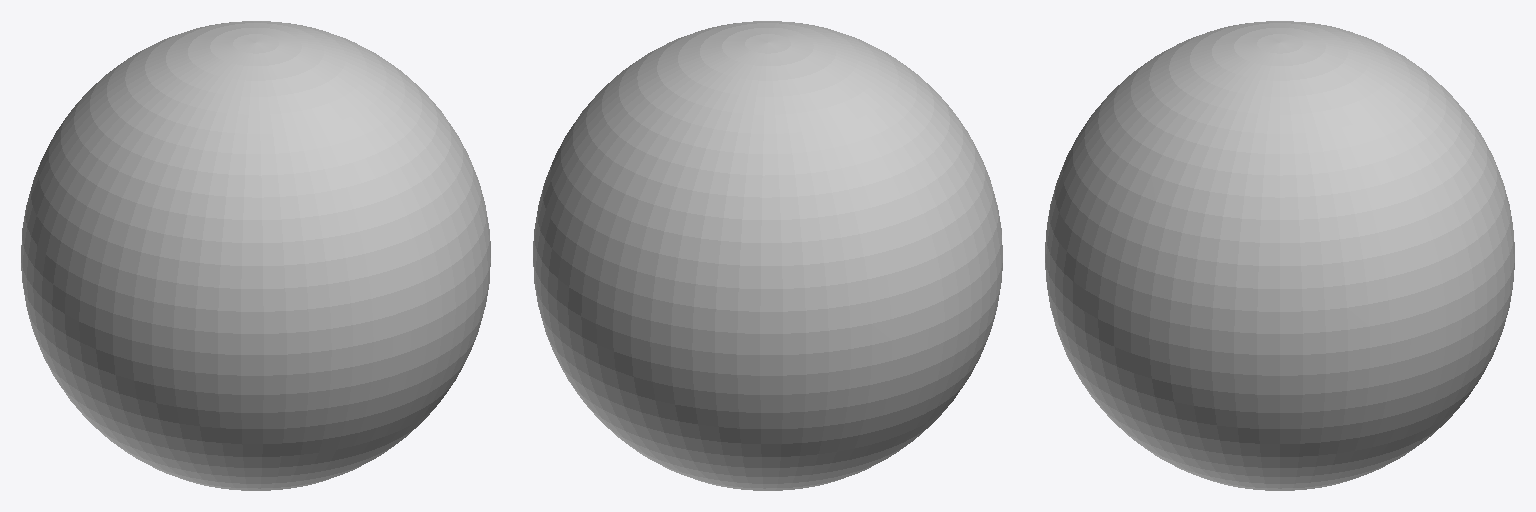
Rendered from FFSphereUVres01.obj.
3 views of the same model, side by side, from view 1: azimuth 30°, elevation 25°; view 2: azimuth 150°, elevation 25°; view 3: azimuth 270°, elevation 25° (orthographic).
Parts seen in each view (by area): view 1: Sphere; view 2: Sphere; view 3: Sphere.
Boxes of the visible parts, box(x1,y1,x2,y2) form: Sphere: box(21, 21, 490, 490); Sphere: box(533, 21, 1002, 490); Sphere: box(1045, 21, 1514, 490).
Size of the model in its own units: 1 by 1 by 1.